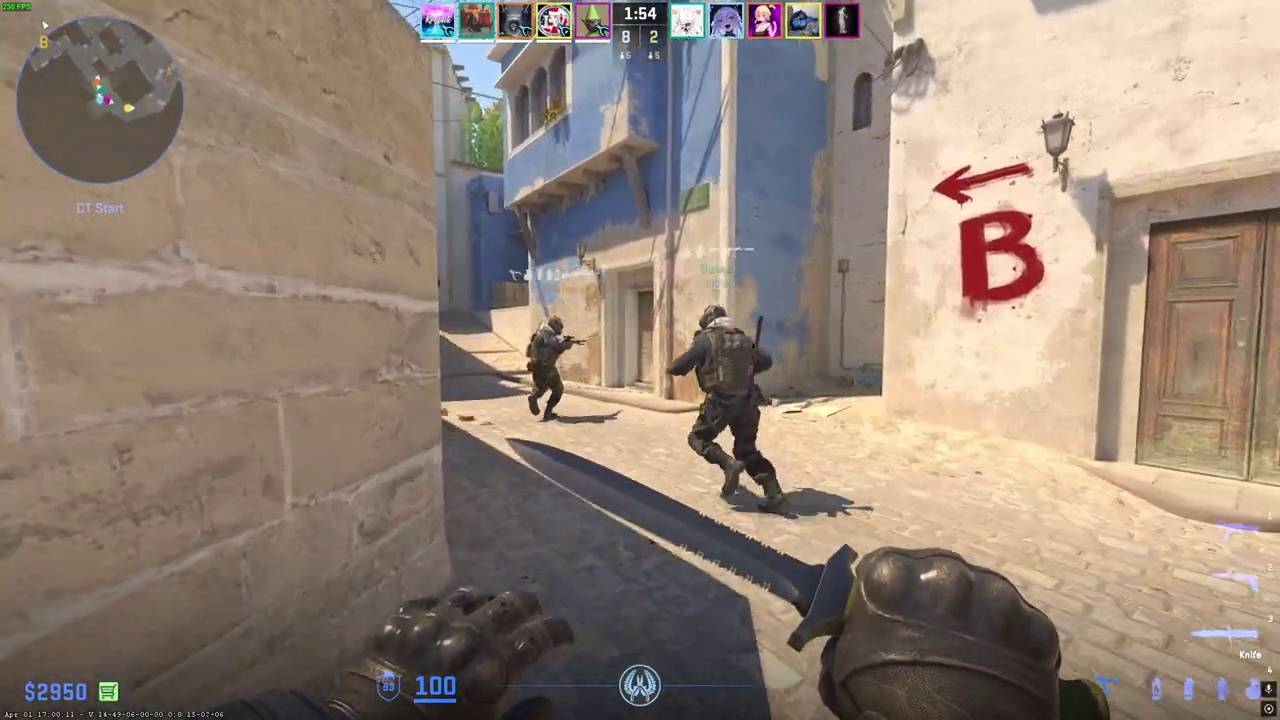CT: (679, 304, 785, 512), (527, 316, 569, 422)
